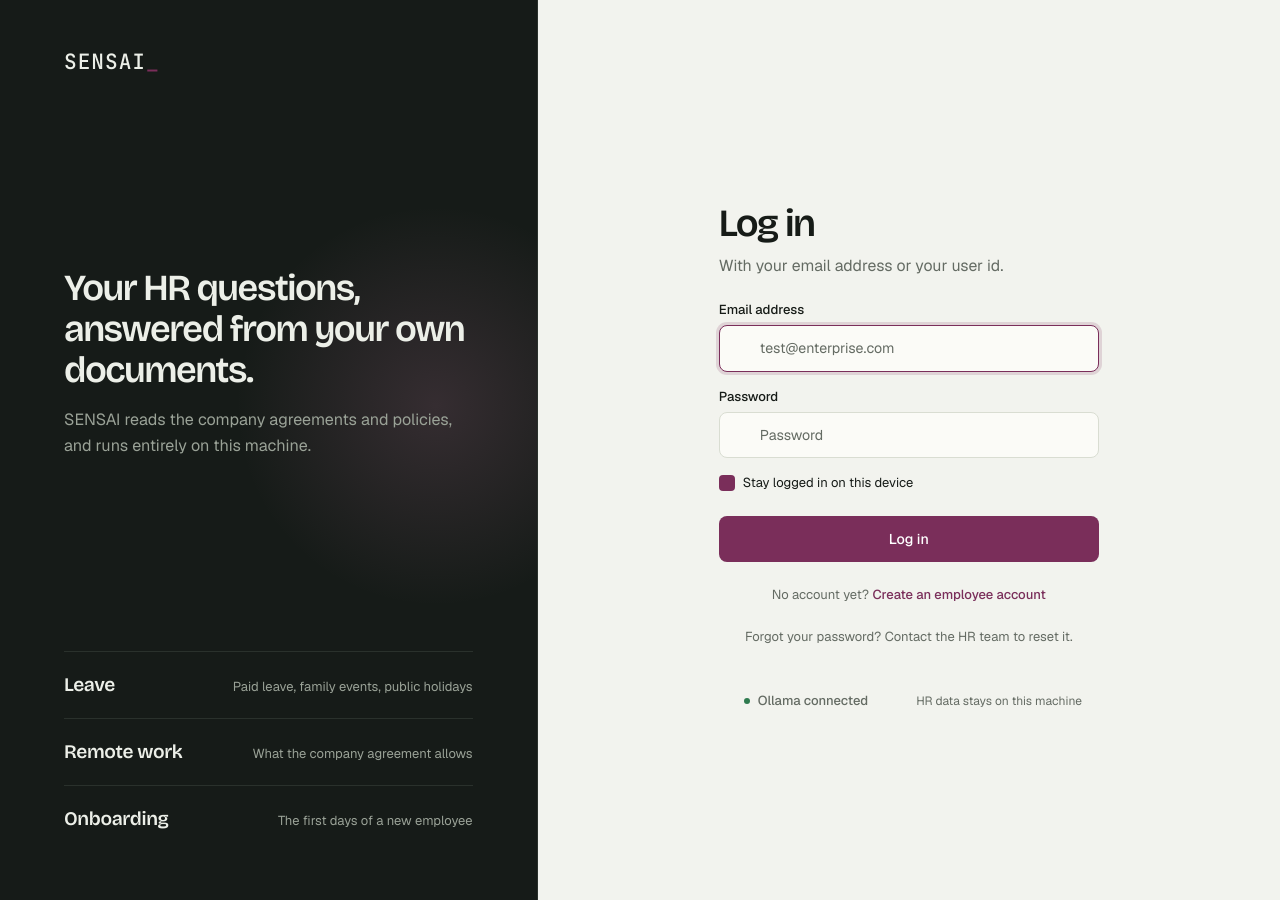
LoginPage, signing up [M1] › goes from the login form to the sign-up form and back
Click the button "Create an employee account". click: (959, 595)
box: [872,586,1046,604]
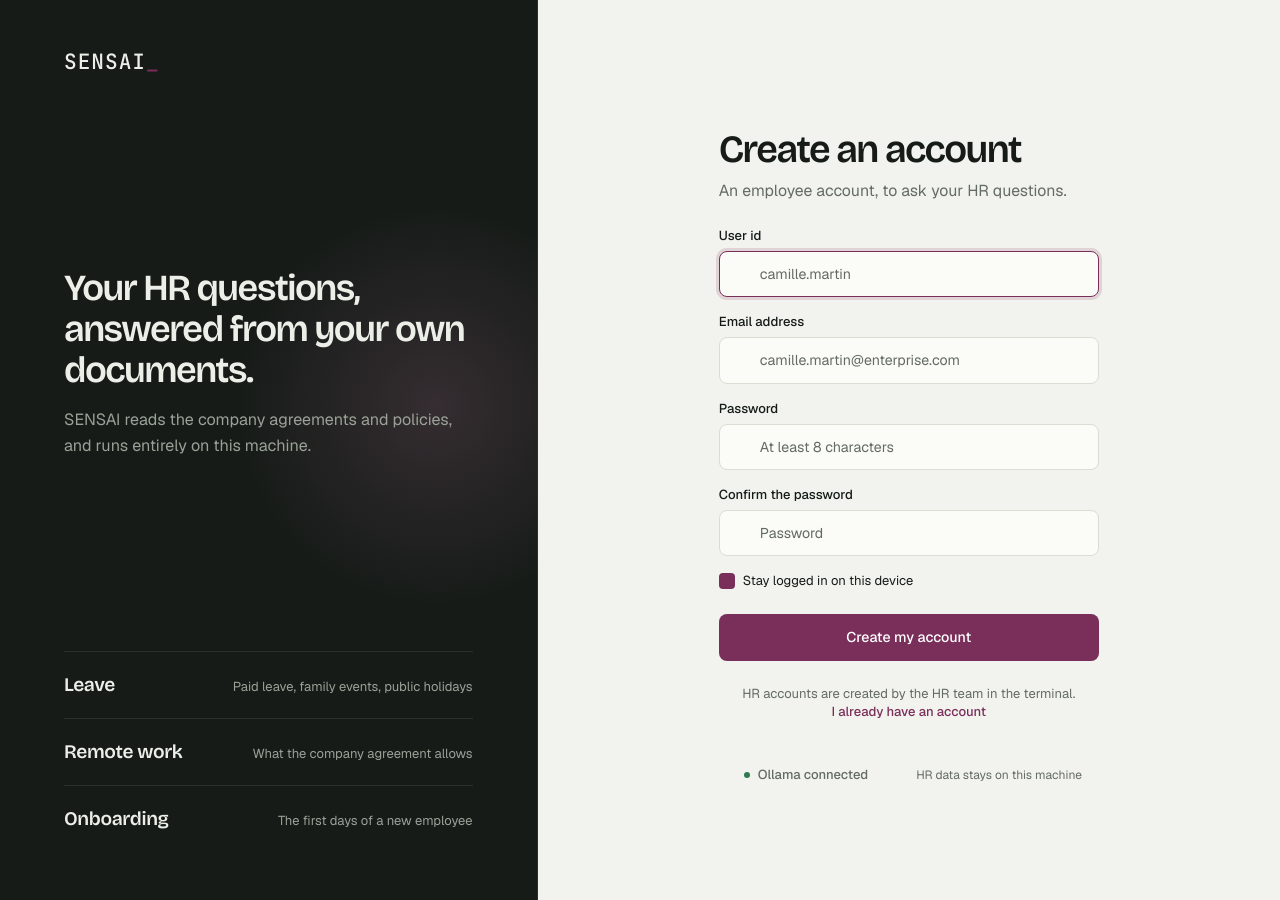
Expected: the heading "Create an account" is shown, [719,126,1021,172]
Click the button "I already have an account". click: (909, 712)
box: [832,703,986,721]
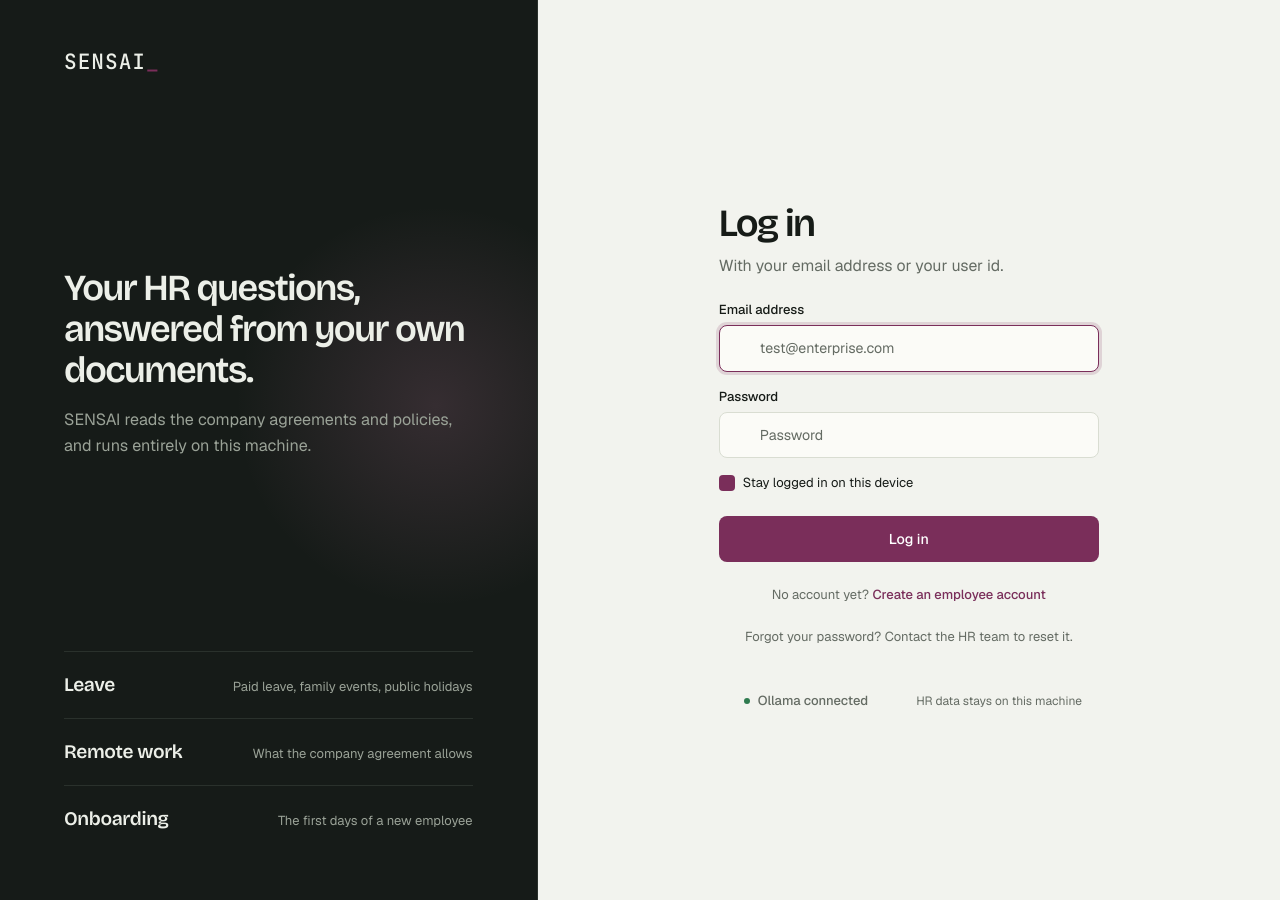
Expected: the heading "Log in" is shown, [719,200,814,246]
